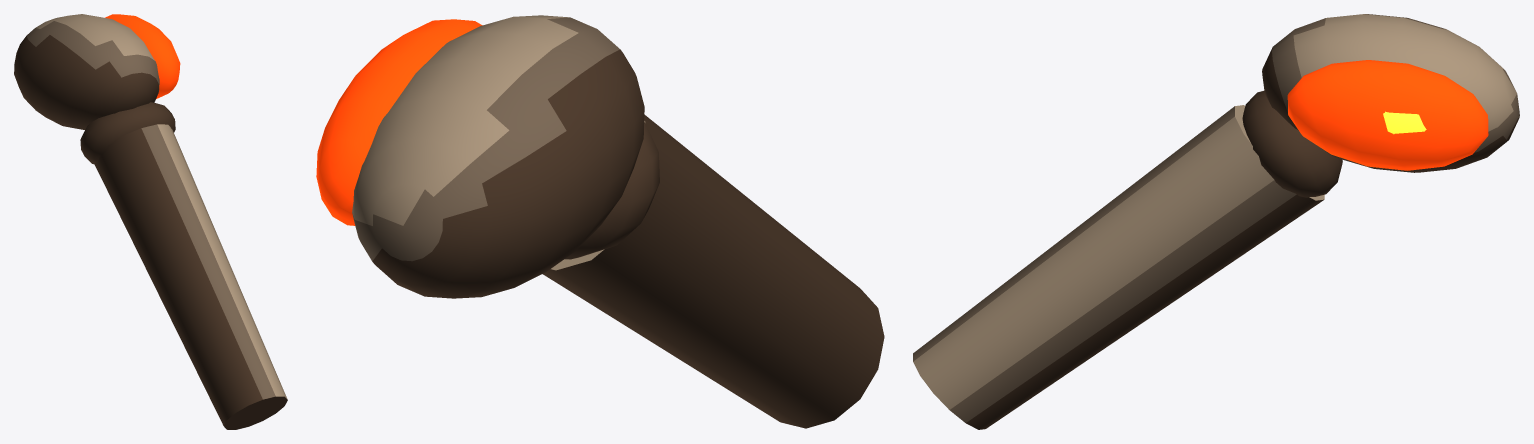
File: rig_torch_r.glb
The picture shows the model from 3 angles, left to right: view 1: azimuth 30°, elevation 25°; view 2: azimuth 150°, elevation 25°; view 3: azimuth 270°, elevation 25°; orthographic projection. The views are drawn at different scales.
Visible parts, largest first — view 1: rig_torch_r; view 2: rig_torch_r; view 3: rig_torch_r.
Boxes of the visible parts, x1,y1,x2,y2 form: rig_torch_r: (14,14,287,429); rig_torch_r: (316,15,884,428); rig_torch_r: (913,14,1519,429).
Size of the model in its own units: 7.6 by 16.81 by 23.07.
